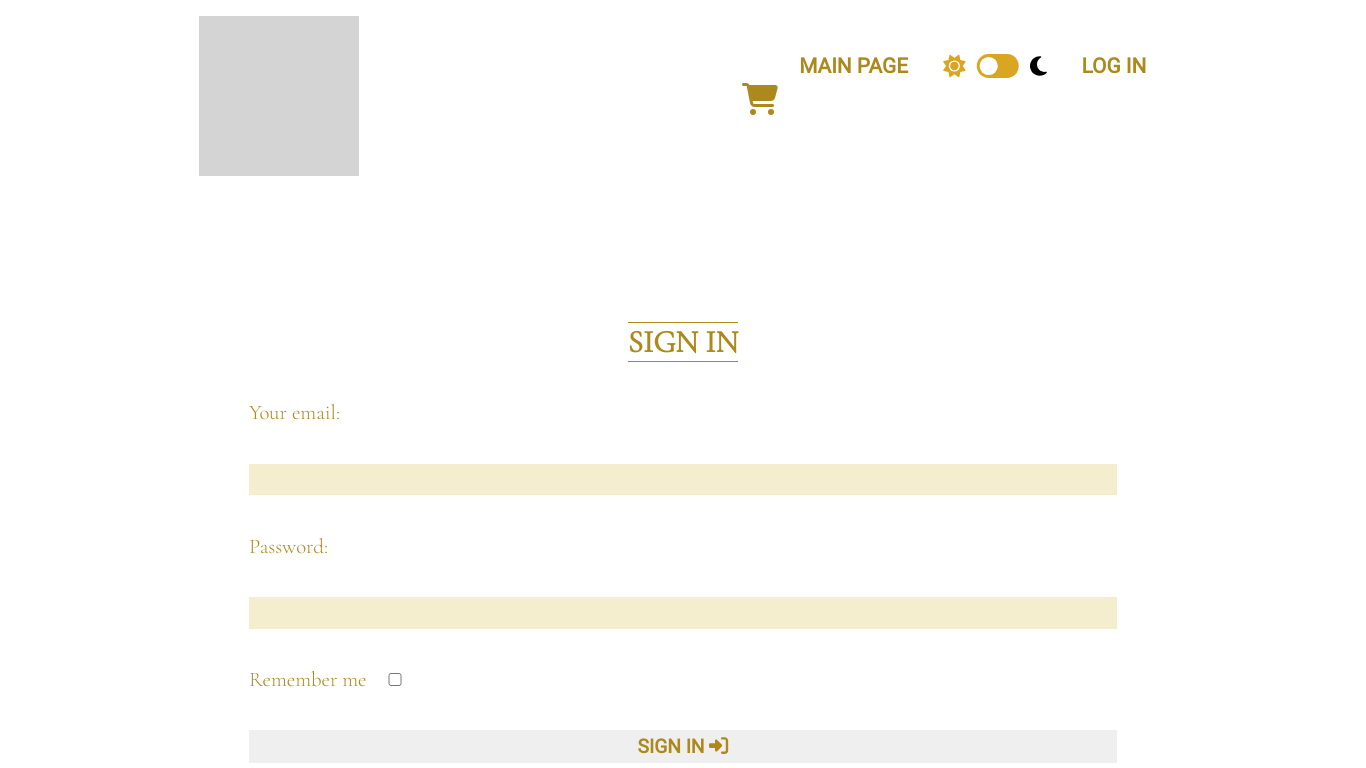
Scenario: Log in component › displays email error message for invalid email format
The image size is (1366, 768).
Note: Trigger an invalid email input
Type "invalidemail" into the field labelled "Your email:" at (683, 479), box [249,464,1117,495]
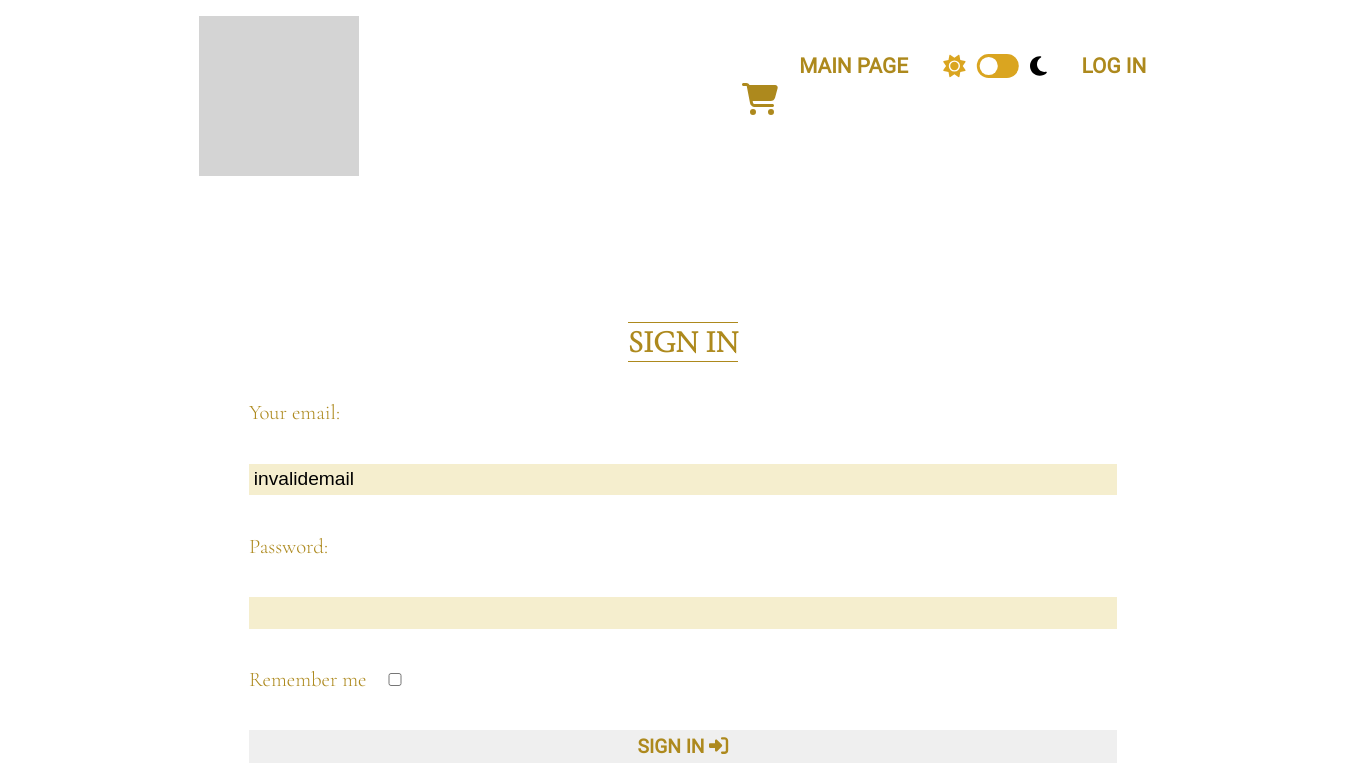
Type "wrongpassword" into the password field labelled "Password:" at (683, 613), box [249,597,1117,629]
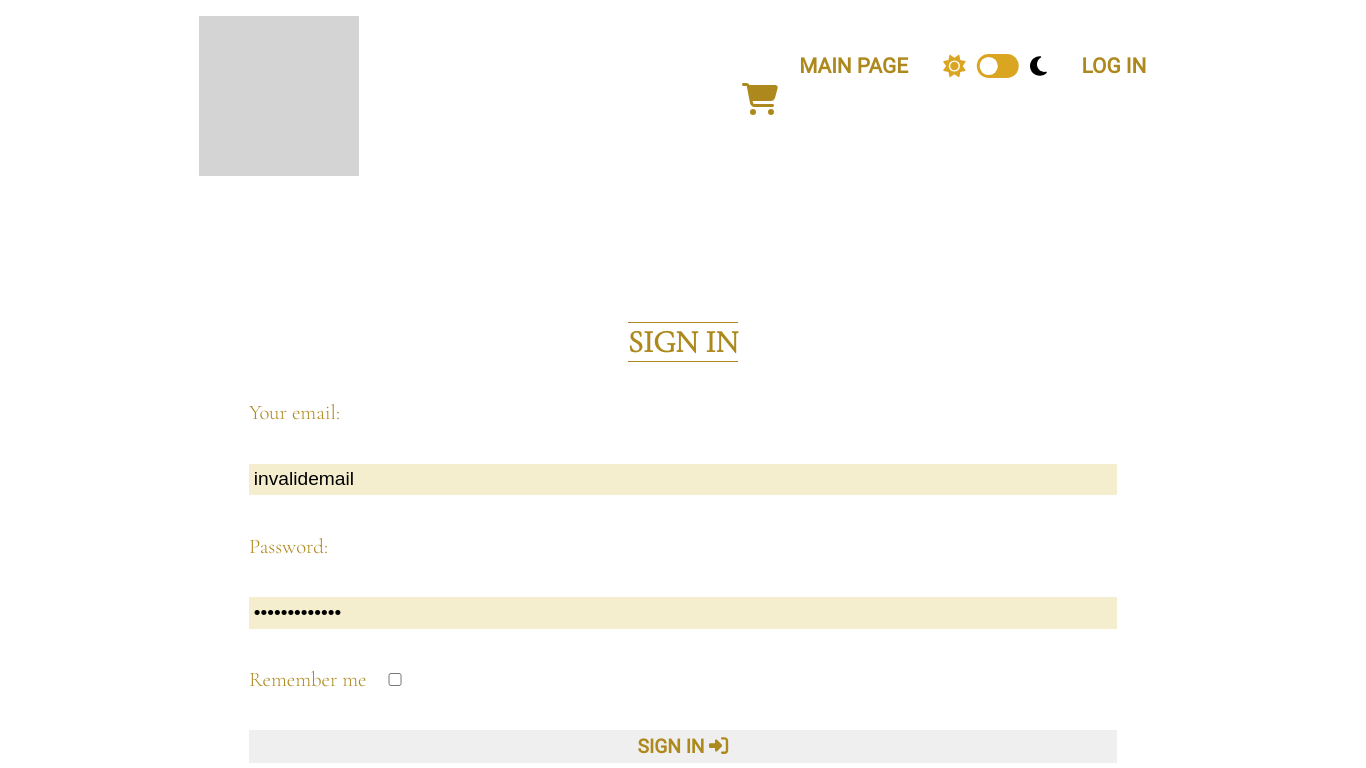
Click the button "Sign in" at (683, 747), box [249,730,1117,763]
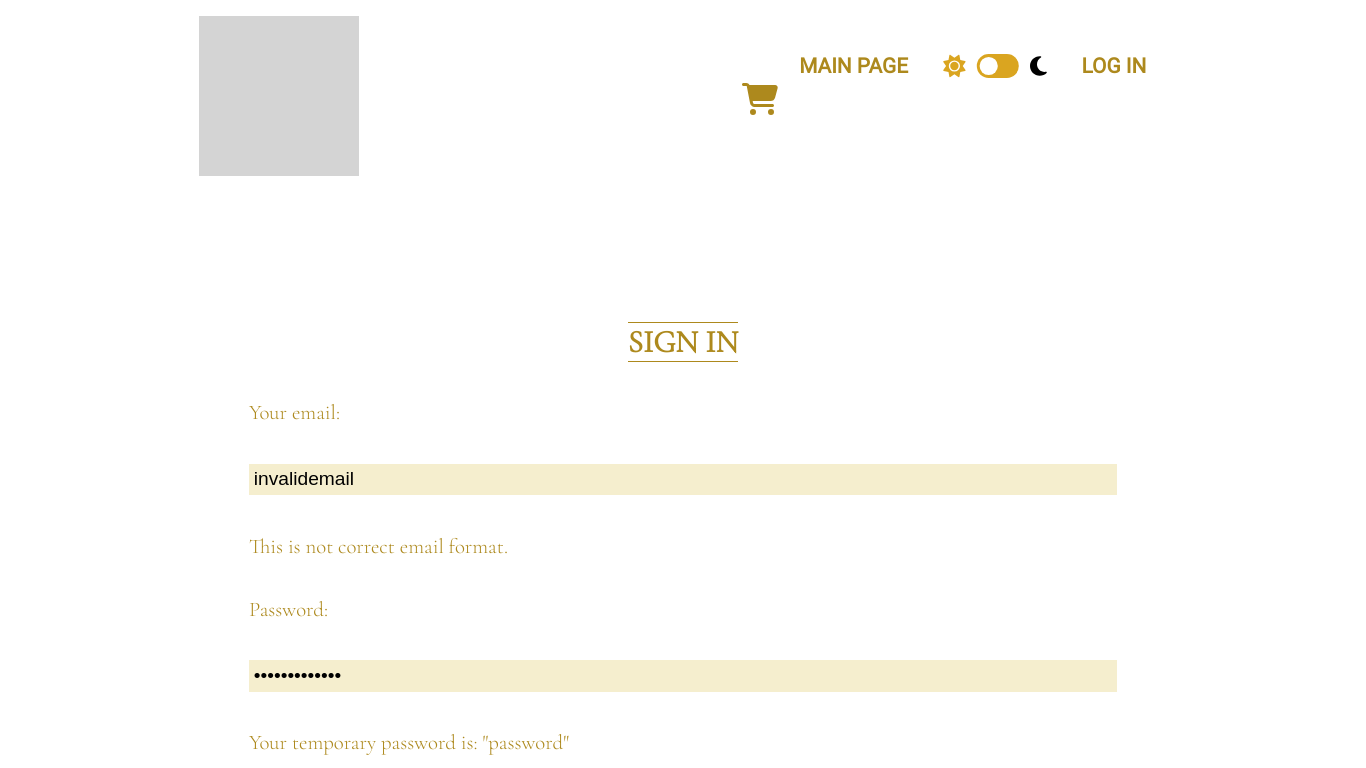
Now the text "This is not correct email format." is shown, box [249,534,508,559]
